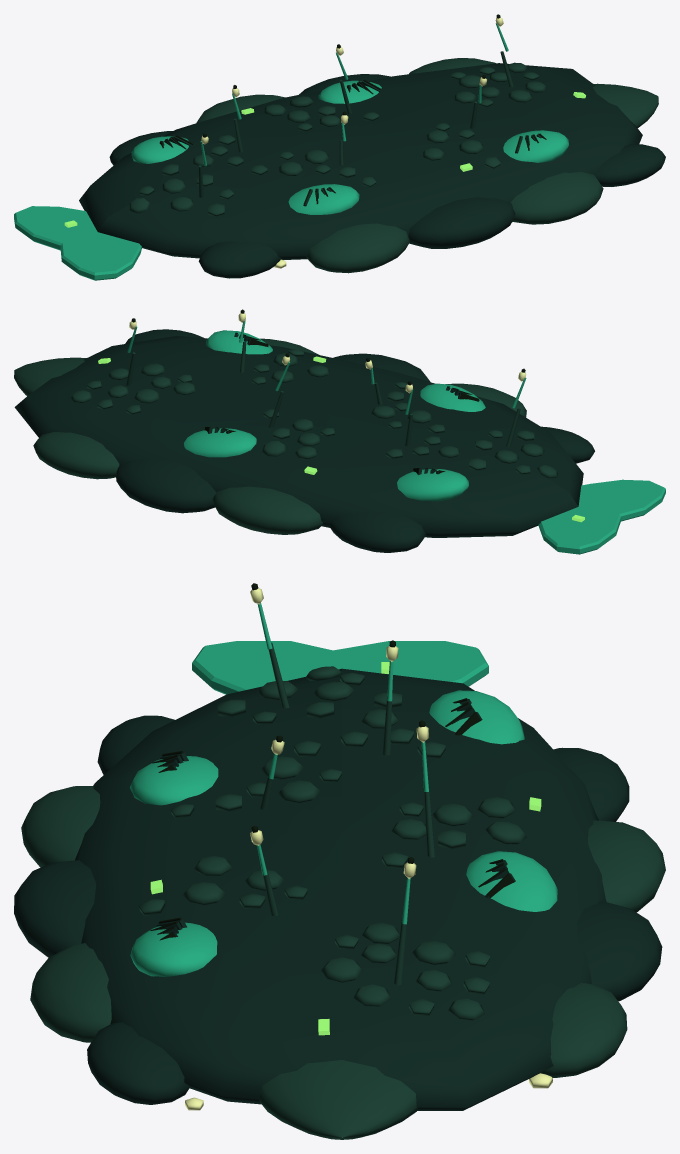
The model's file is bower-pelagia.glb.
3 views of the same model, one above another, from view 1: azimuth 30°, elevation 25°; view 2: azimuth 150°, elevation 25°; view 3: azimuth 270°, elevation 25° (orthographic). The views are drawn at different scales.
Visible parts, largest first — view 1: hull, drive_fluke, edge_lobe_s_2, edge_lobe_s_3, edge_lobe_s_1, edge_lobe_s_4, edge_lobe_s_0, gill_mound_s1, grown_nose, gill_mound_s0, gill_mound_p1, edge_lobe_p_2 (+4 smaller); view 2: hull, drive_fluke, edge_lobe_p_1, edge_lobe_p_2, edge_lobe_p_3, edge_lobe_p_0, gill_mound_p1, gill_mound_p0, grown_nose, gill_mound_s1, gill_mound_s0, edge_lobe_s_2 (+3 smaller); view 3: hull, drive_fluke, grown_nose, edge_lobe_p_1, edge_lobe_s_1, edge_lobe_s_2, edge_lobe_p_0, edge_lobe_s_0, edge_lobe_p_2, edge_lobe_s_3, gill_mound_p0, gill_mound_s0 (+4 smaller).
Part boxes in pixels (x1=…): hull: x1=79, y1=63, x2=642, y2=259; drive_fluke: x1=14, y1=206, x2=142, y2=280; edge_lobe_s_2: x1=408, y1=197, x2=515, y2=248; edge_lobe_s_3: x1=306, y1=223, x2=409, y2=273; edge_lobe_s_1: x1=510, y1=171, x2=603, y2=224; edge_lobe_s_4: x1=198, y1=241, x2=281, y2=278; edge_lobe_s_0: x1=596, y1=144, x2=665, y2=186; gill_mound_s1: x1=288, y1=184, x2=359, y2=214; grown_nose: x1=593, y1=83, x2=658, y2=128; gill_mound_s0: x1=503, y1=130, x2=568, y2=162; gill_mound_p1: x1=131, y1=136, x2=188, y2=163; edge_lobe_p_2: x1=196, y1=94, x2=285, y2=122; hull: x1=14, y1=336, x2=583, y2=537; drive_fluke: x1=538, y1=479, x2=665, y2=554; edge_lobe_p_1: x1=115, y1=457, x2=216, y2=513; edge_lobe_p_2: x1=212, y1=486, x2=322, y2=534; edge_lobe_p_3: x1=329, y1=511, x2=425, y2=552; edge_lobe_p_0: x1=33, y1=432, x2=119, y2=479; gill_mound_p1: x1=397, y1=469, x2=468, y2=501; gill_mound_p0: x1=184, y1=428, x2=256, y2=457; grown_nose: x1=14, y1=357, x2=86, y2=395; gill_mound_s1: x1=420, y1=383, x2=485, y2=411; gill_mound_s0: x1=206, y1=330, x2=272, y2=354; edge_lobe_s_2: x1=333, y1=353, x2=430, y2=381; hull: x1=75, y1=668, x2=606, y2=1110; drive_fluke: x1=192, y1=641, x2=488, y2=694; grown_nose: x1=259, y1=1060, x2=418, y2=1139; edge_lobe_p_1: x1=577, y1=901, x2=662, y2=1001; edge_lobe_s_1: x1=30, y1=943, x2=111, y2=1042; edge_lobe_s_2: x1=14, y1=860, x2=96, y2=957; edge_lobe_p_0: x1=540, y1=983, x2=627, y2=1077; edge_lobe_s_0: x1=87, y1=1022, x2=189, y2=1104; edge_lobe_p_2: x1=588, y1=820, x2=665, y2=912; edge_lobe_s_3: x1=21, y1=786, x2=100, y2=867; gill_mound_p0: x1=466, y1=851, x2=557, y2=911; gill_mound_s0: x1=130, y1=922, x2=217, y2=977.
Bounding box in the file's own units: 105 × 20.98 × 58.24.
